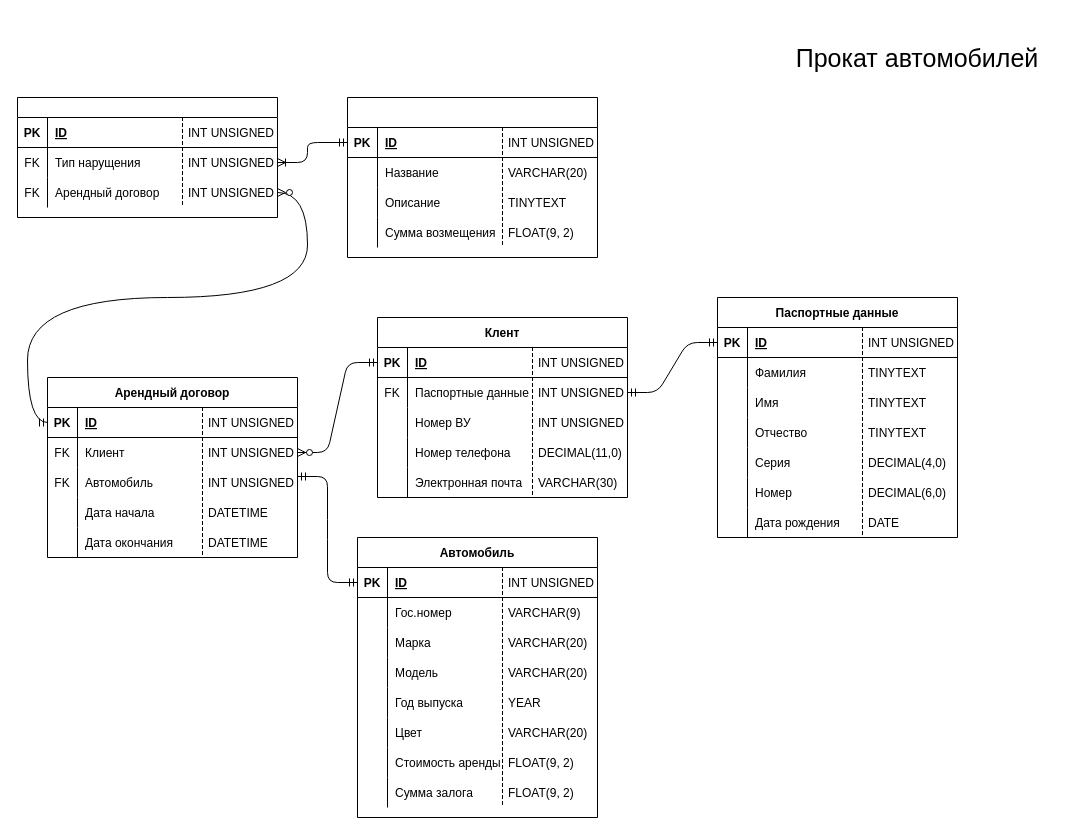
Some shapes in this 1075 by 835 pixel diagram are drawn without their labels. Here are the shapes that lost their labels. From the top down, the box of each, then its label:
(16, 96, 278, 218): Нарушение
(346, 96, 598, 258): Тип нарушения
